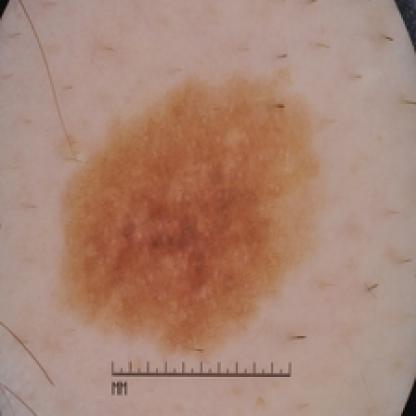malignant: (58, 98, 338, 320)
